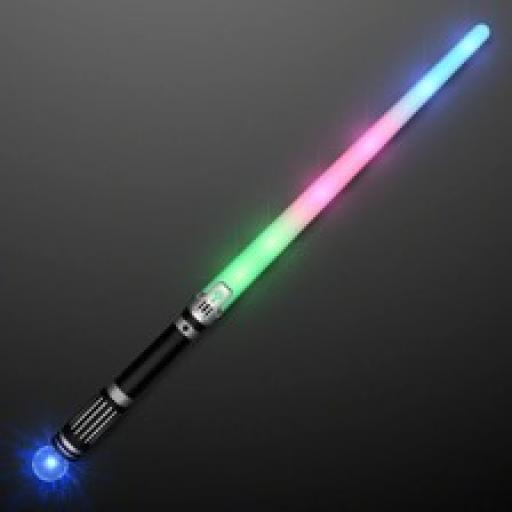lightsaber: (32, 23, 491, 483)
